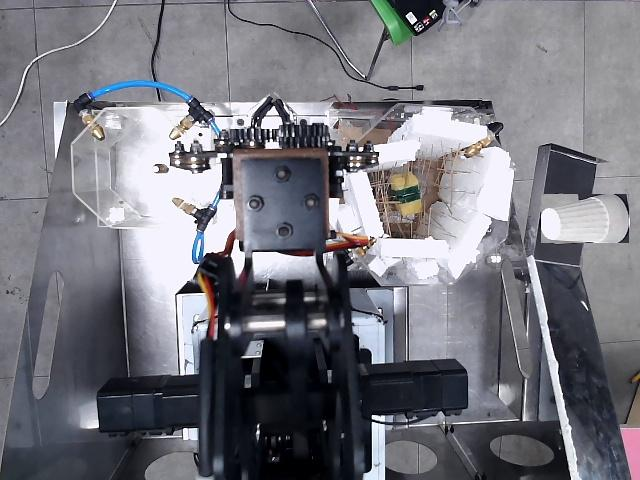cup: (541, 194, 629, 243)
